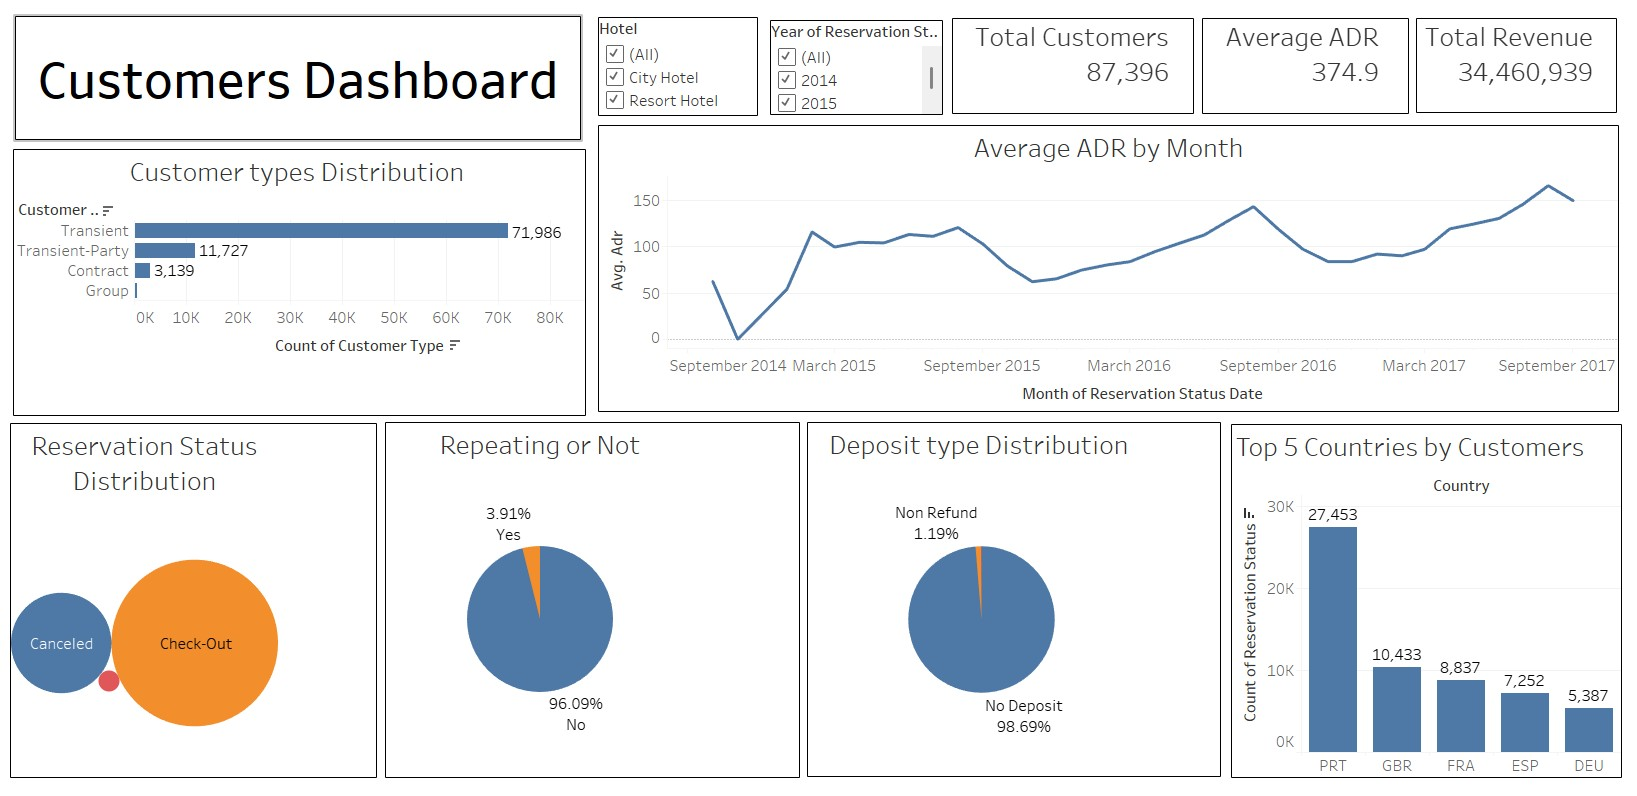

The dashboard page shown, as its layout file describes it:
{"tool":"tableau","page":{"name":"Customer ","canvas":[1000,1000],"units":"permille","ordinal":0},"visuals":[{"type":"text","box":[15.7,20,341.6,154.8]},{"type":"filter","title":"14","param":"[federated.1exbu4f0g7uenq13xwq2b13fh9a1].[none:hotel:nk]","box":[367.5,21.2,96.6,123.6]},{"type":"worksheet","title":"KPI_4","mark":"Automatic","box":[581.2,22.5,146.1,119.9]},{"type":"worksheet","title":"KPI_5","mark":"Automatic","box":[732.1,22.5,124.9,119.9]},{"type":"worksheet","title":"KPI_2","mark":"Automatic","box":[861.2,22.5,121.3,118.6]},{"type":"filter","title":"19","param":"[federated.1exbu4f0g7uenq13xwq2b13fh9a1].[yr:reservation_status_date:ok]","box":[471.3,25,104.4,118.6]},{"type":"worksheet","title":"19","mark":"Automatic","rows":["adr"],"cols":["reservation_status_date"],"box":[367.5,156.1,616.2,358.3]},{"type":"worksheet","title":"13","mark":"Automatic","rows":["customer_type"],"cols":["customer_type"],"box":[14.5,186,345.8,333.3]},{"type":"worksheet","title":"12","mark":"Pie","box":[239,526.8,250.5,444.4]},{"type":"worksheet","title":"14","mark":"Pie","box":[493.7,526.8,249.8,443.2]},{"type":"worksheet","title":"16","mark":"Circle","box":[12.7,528.1,221.5,443.2]},{"type":"worksheet","title":"11","mark":"Automatic","rows":["reservation_status"],"cols":["country"],"box":[749.6,529.3,236,441.9]}]}

Visuals, with their boxes on the dashboard's canvas, which has no fixed pixel size, in thousandths of its width and height (x1, y1, x2, y2). These are canvas units, not pixel positions in the 1637x796 screenshot, which may show the page scaled, cropped or inside an application window:
text: bbox=(16, 20, 357, 175)
"14" filter: bbox=(368, 21, 464, 145)
"KPI_4" worksheet: bbox=(581, 22, 727, 142)
"KPI_5" worksheet: bbox=(732, 22, 857, 142)
"KPI_2" worksheet: bbox=(861, 22, 982, 141)
"19" filter: bbox=(471, 25, 576, 144)
"19" worksheet: bbox=(368, 156, 984, 514)
"13" worksheet: bbox=(14, 186, 360, 519)
"12" worksheet (Pie marks): bbox=(239, 527, 490, 971)
"14" worksheet (Pie marks): bbox=(494, 527, 744, 970)
"16" worksheet (Circle marks): bbox=(13, 528, 234, 971)
"11" worksheet: bbox=(750, 529, 986, 971)
